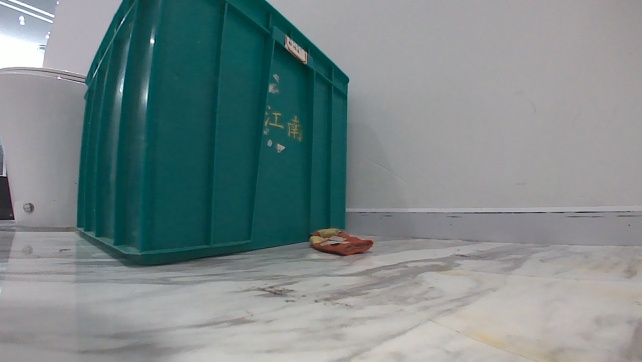socks: (307, 225, 374, 256)
toilet: (0, 61, 93, 231)
